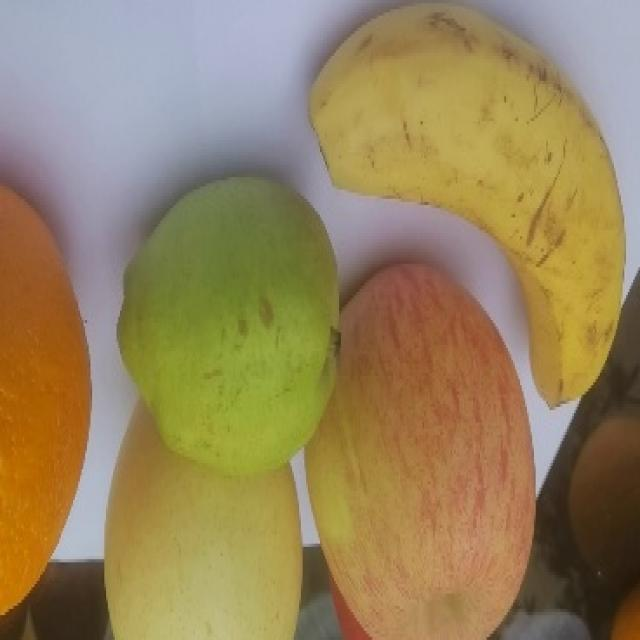Apple: (303, 261, 537, 639)
Banana: (307, 1, 627, 409)
Orange: (0, 182, 92, 618)
